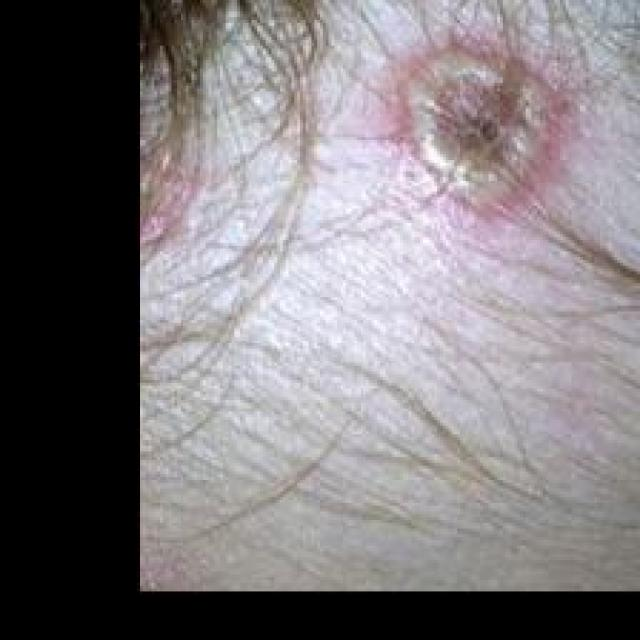others: (134, 2, 640, 609)
